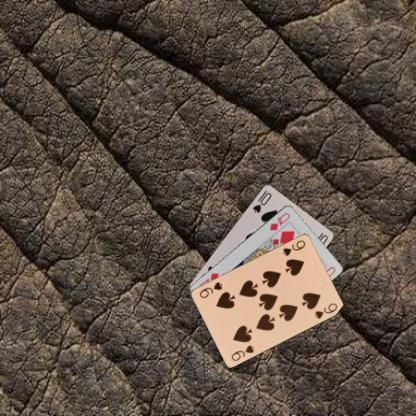10s: (250, 189, 273, 214)
9s: (280, 237, 307, 257), (229, 342, 255, 362)
Qd: (267, 209, 291, 232)
